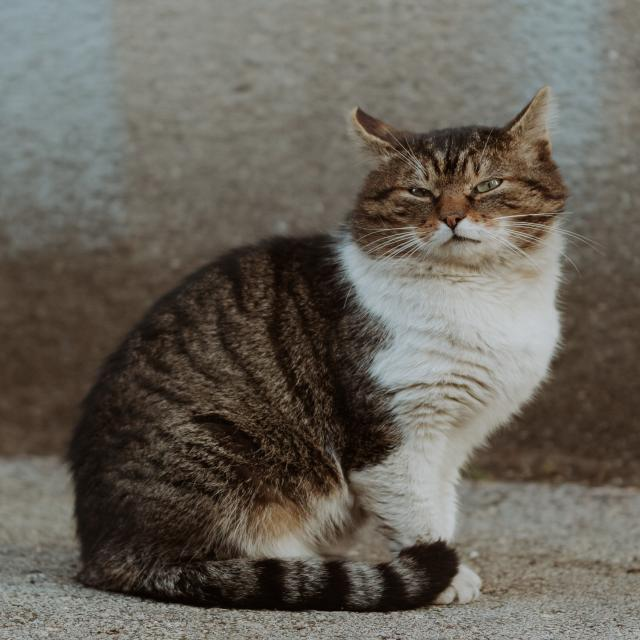cat: (67, 86, 582, 610)
